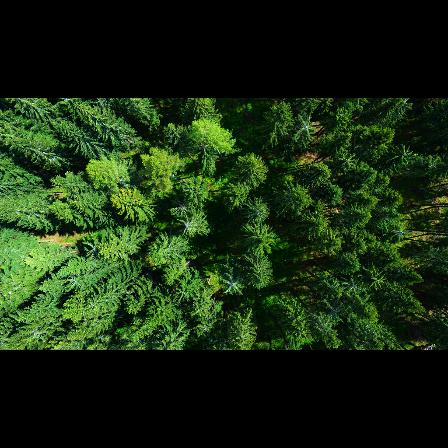Sick: (217, 274, 249, 297), (294, 114, 318, 137), (322, 301, 346, 322), (176, 215, 199, 235), (337, 151, 357, 173), (169, 197, 191, 217), (388, 221, 411, 240), (346, 278, 366, 294)
